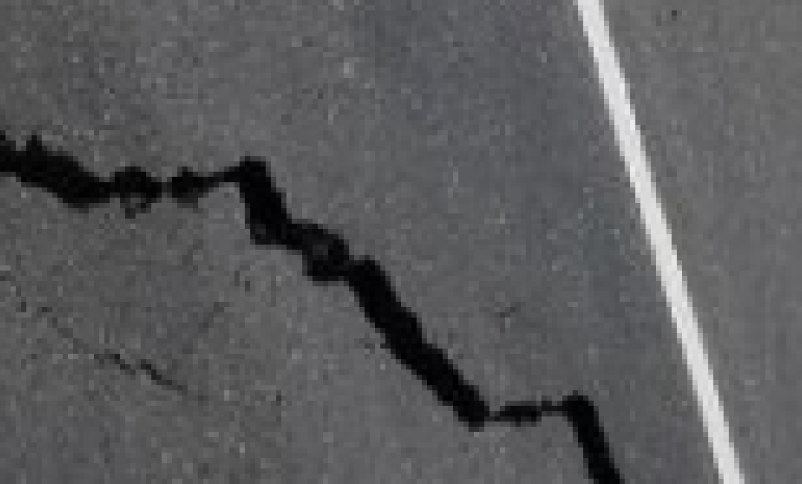Retak Melintang: (5, 105, 676, 484)
